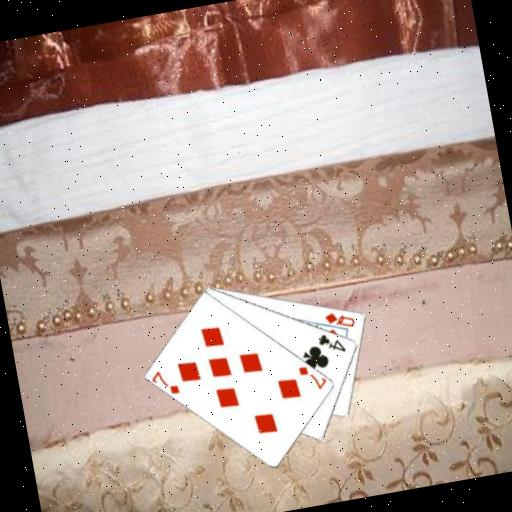4C: (314, 328, 348, 358)
7D: (295, 359, 329, 394), (148, 364, 182, 399)
QD: (321, 305, 358, 332)
